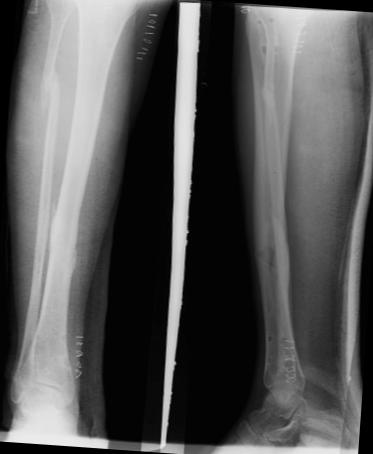fractured: (39, 67, 57, 119), (252, 239, 275, 270), (47, 200, 58, 253), (65, 243, 78, 274), (260, 82, 274, 99)
